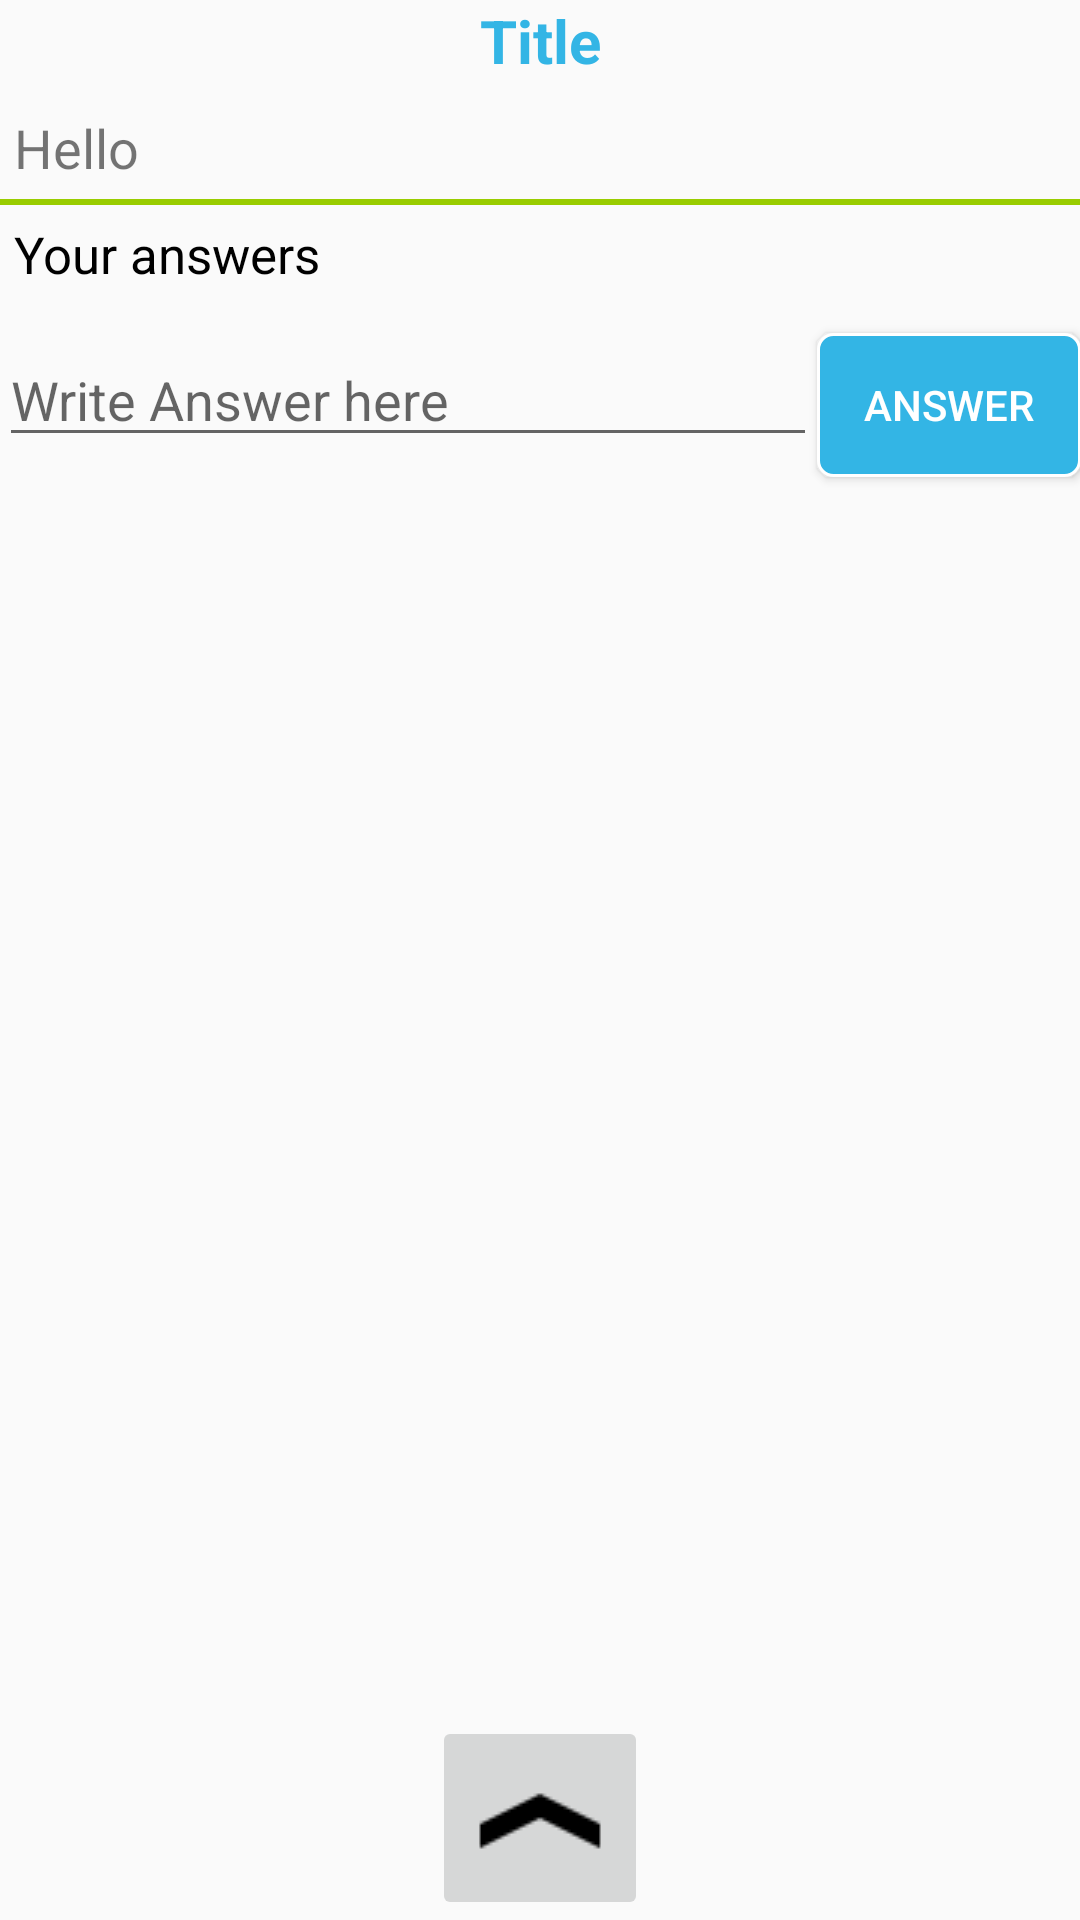

Icons on this 1080×1920 Android screen, each with its box as (x1, y1, x2, y2):
bottomup: (444, 1734, 636, 1902)
